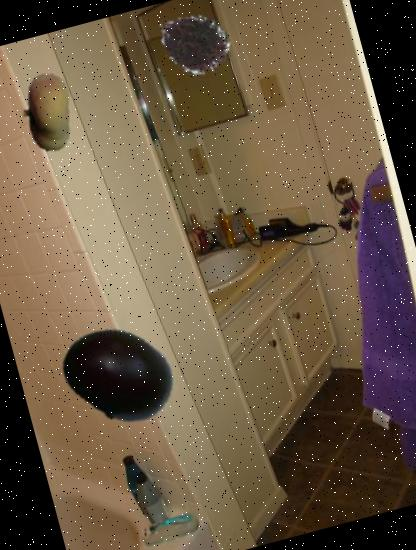Eggplant: (48, 305, 190, 446)
Peach: (0, 64, 96, 161)
Rambutan: (146, 0, 238, 89)
